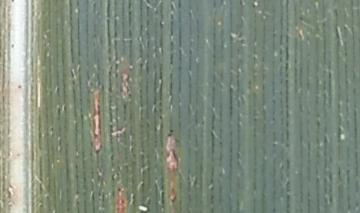tarspot: (165, 126, 178, 139)
